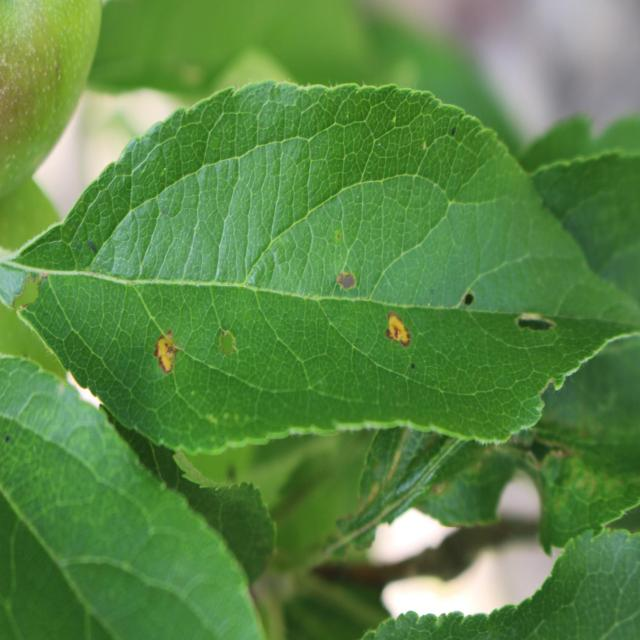Rust: (146, 322, 188, 393), (367, 300, 417, 352)
